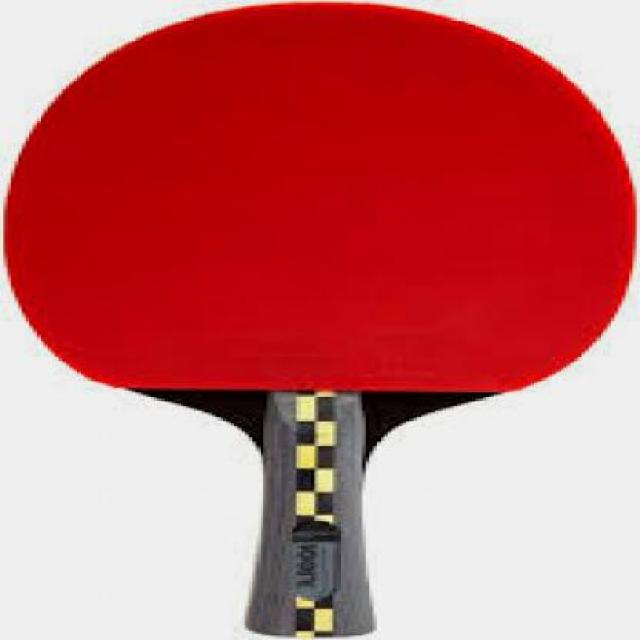table_tennis_racket: (2, 3, 638, 640)
